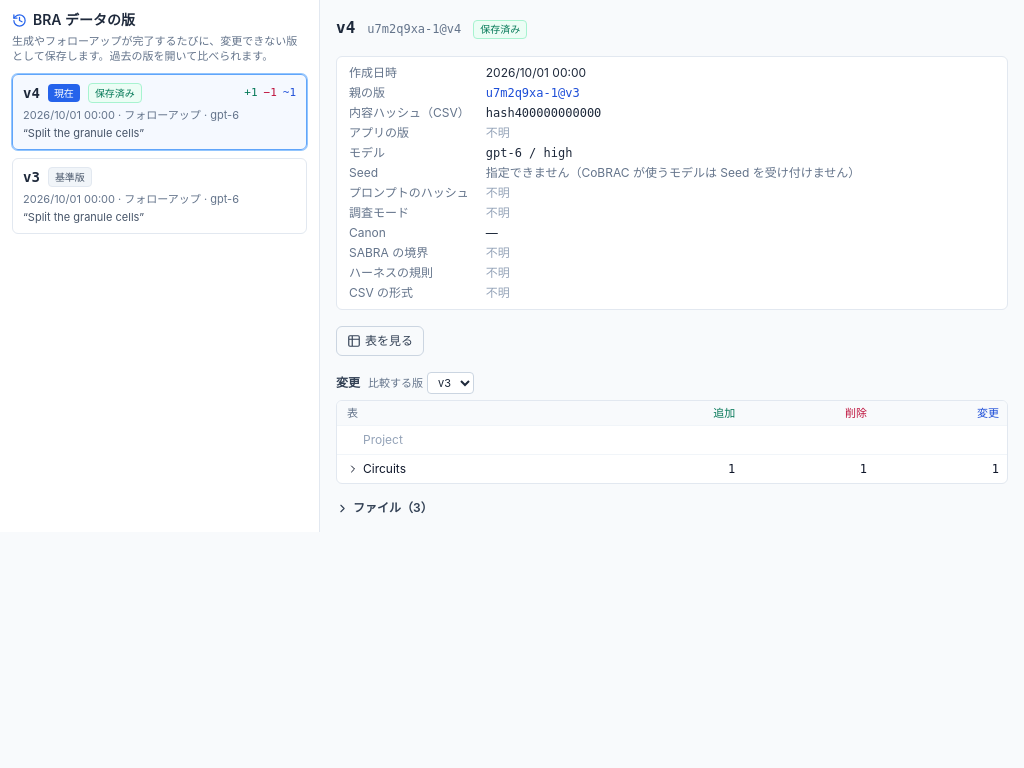
Scenario: VersionsView › offers no downloads, only the version's tables
The image size is (1024, 768).
Click the button "表を見る". click: click(380, 341)
box: [336, 326, 424, 356]
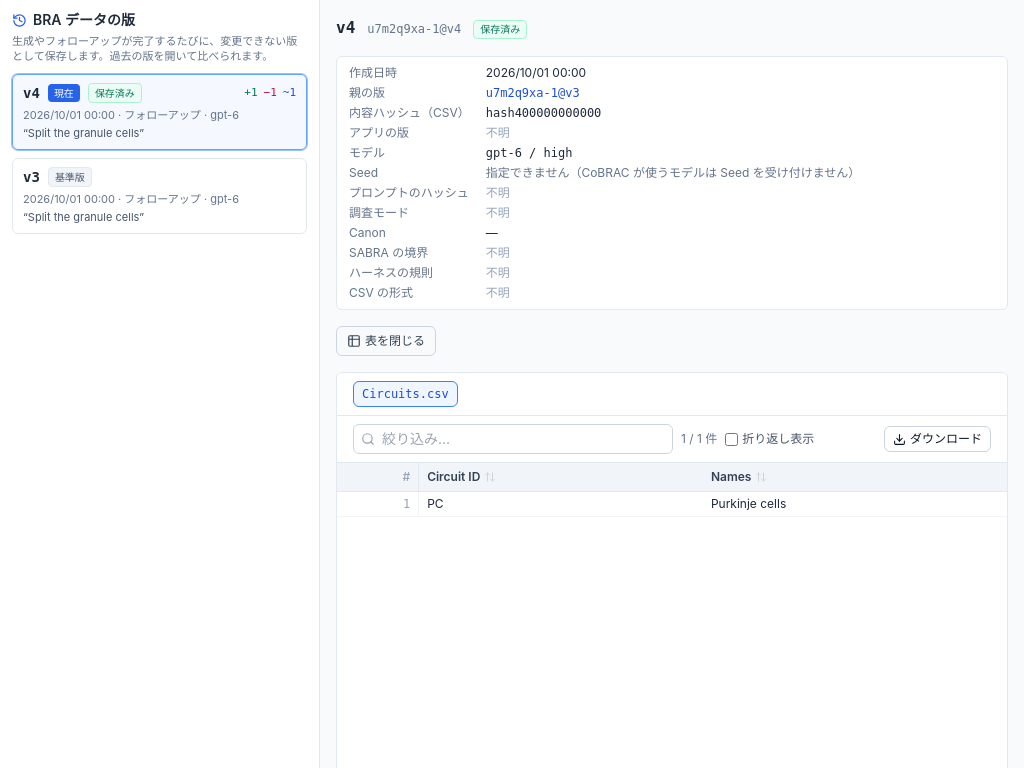
Now the element showing "Circuits.csv" is shown, box [337, 373, 1007, 416]
